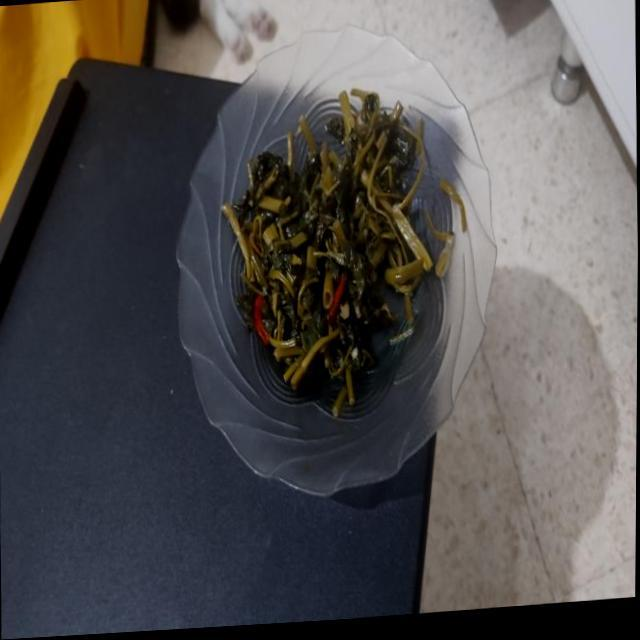tumis_kangkung: (222, 88, 432, 414)
